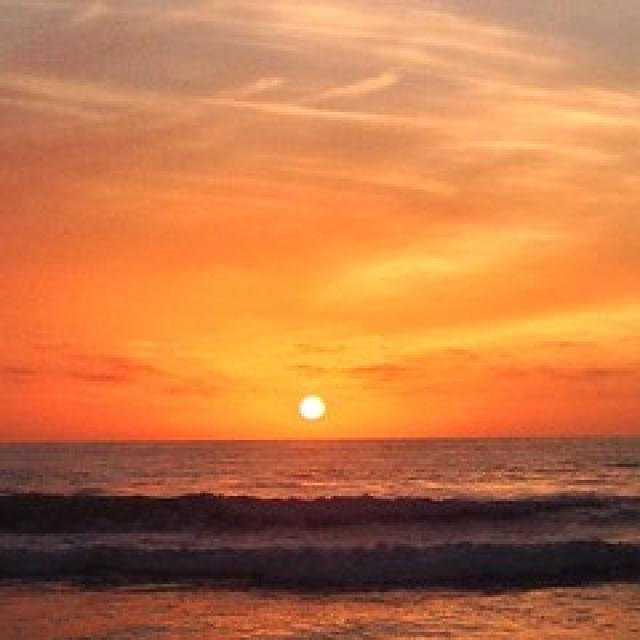sun: (279, 373, 349, 444)
